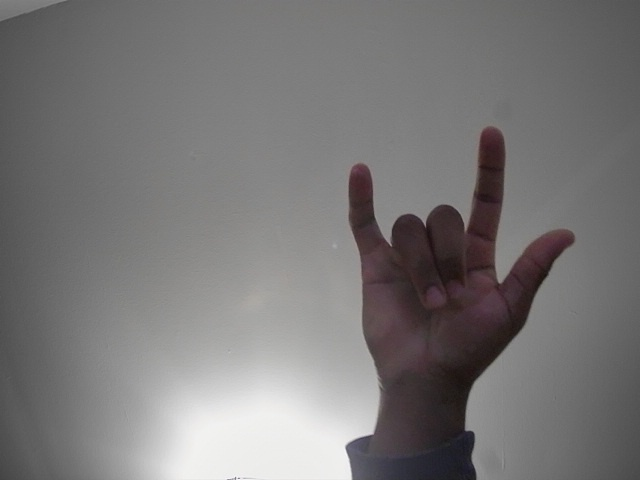ILoveYou: (321, 120, 588, 426)
